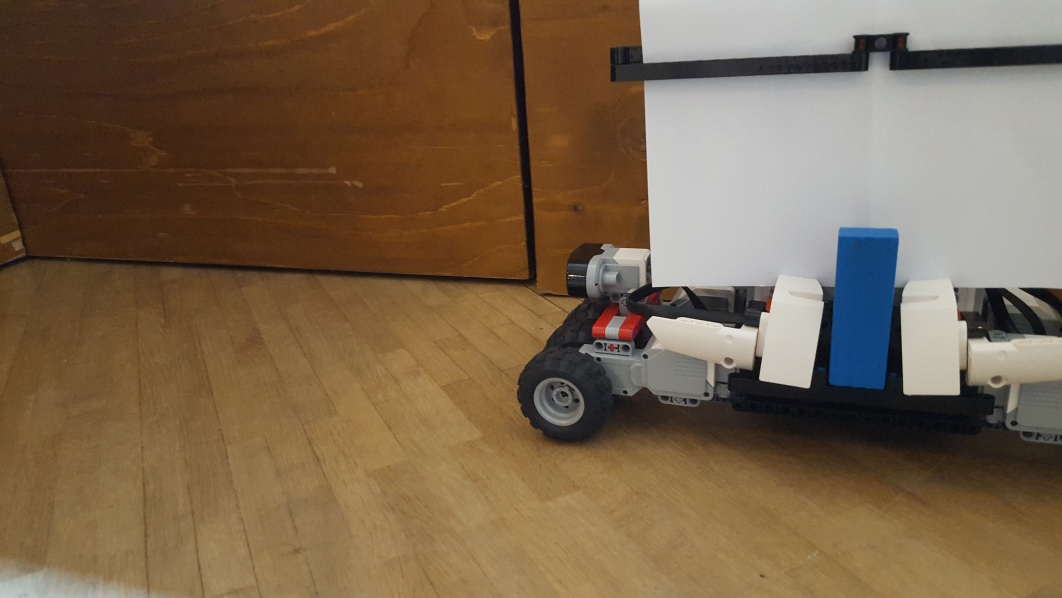car: (516, 2, 1062, 446)
